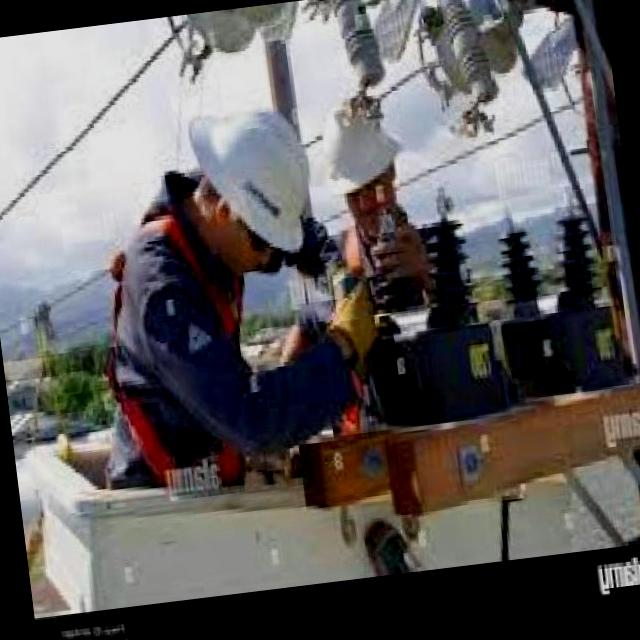vest: (63, 192, 272, 500)
